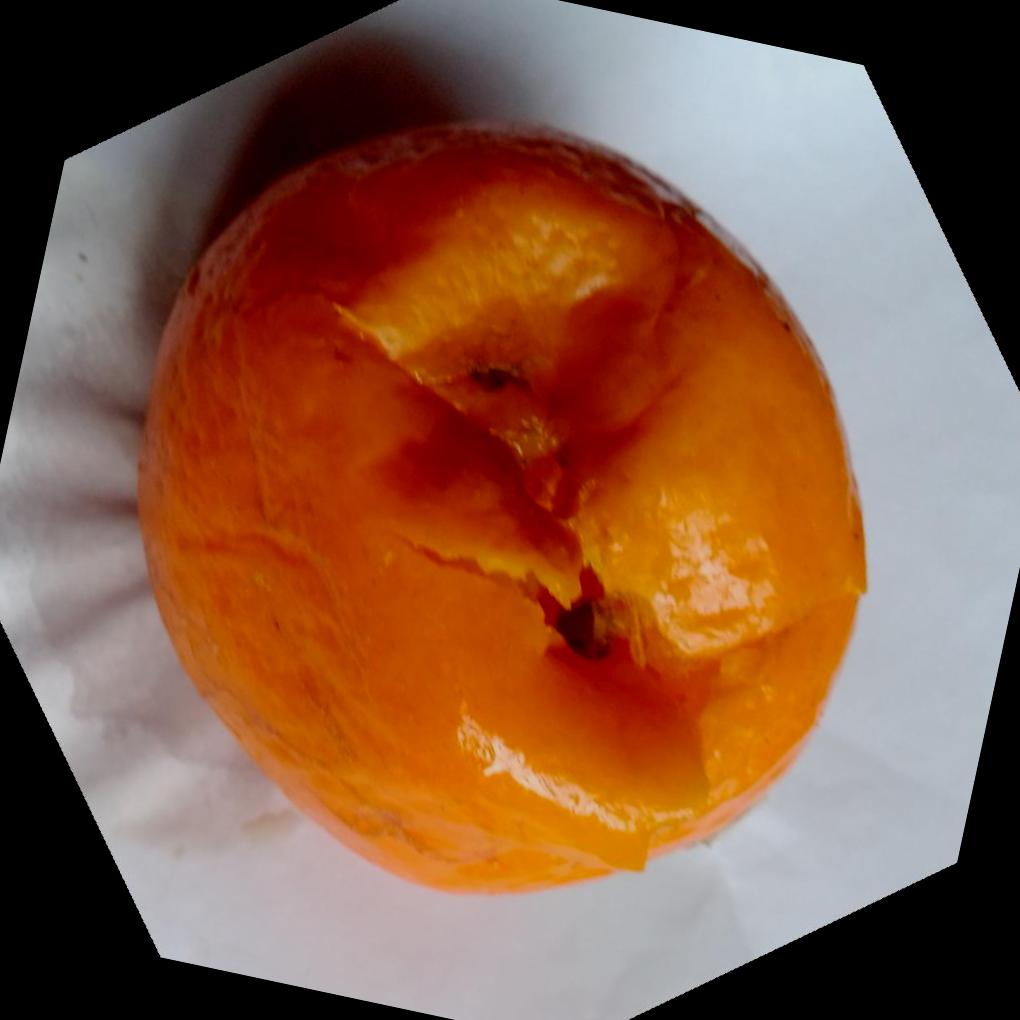FreshOrange: (136, 116, 871, 894)
